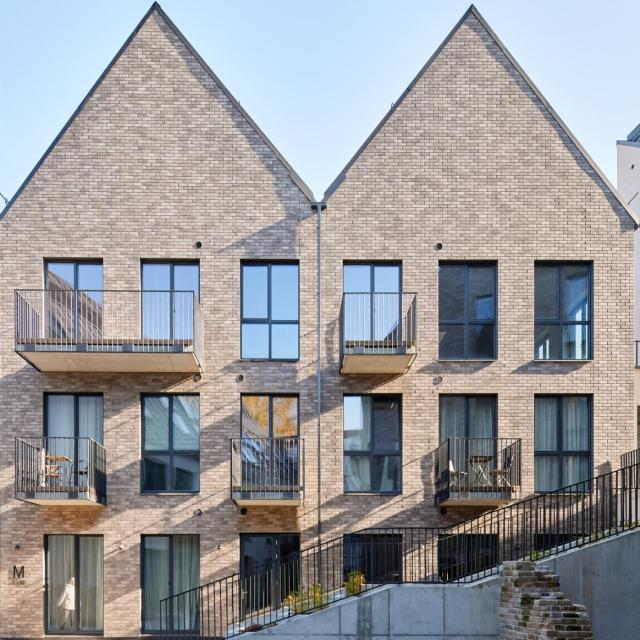door: (137, 534, 203, 632), (47, 536, 105, 633), (241, 534, 296, 568)
railing: (159, 458, 639, 639), (13, 286, 193, 346), (16, 436, 105, 494), (342, 291, 417, 348), (439, 438, 521, 488), (229, 437, 301, 492)
window: (436, 262, 495, 360), (440, 392, 501, 485), (533, 393, 591, 490), (44, 393, 102, 489), (534, 263, 591, 360), (343, 395, 400, 492), (240, 264, 296, 361), (143, 393, 199, 490), (45, 260, 103, 341), (140, 261, 197, 342), (241, 395, 299, 437), (344, 262, 400, 291)
